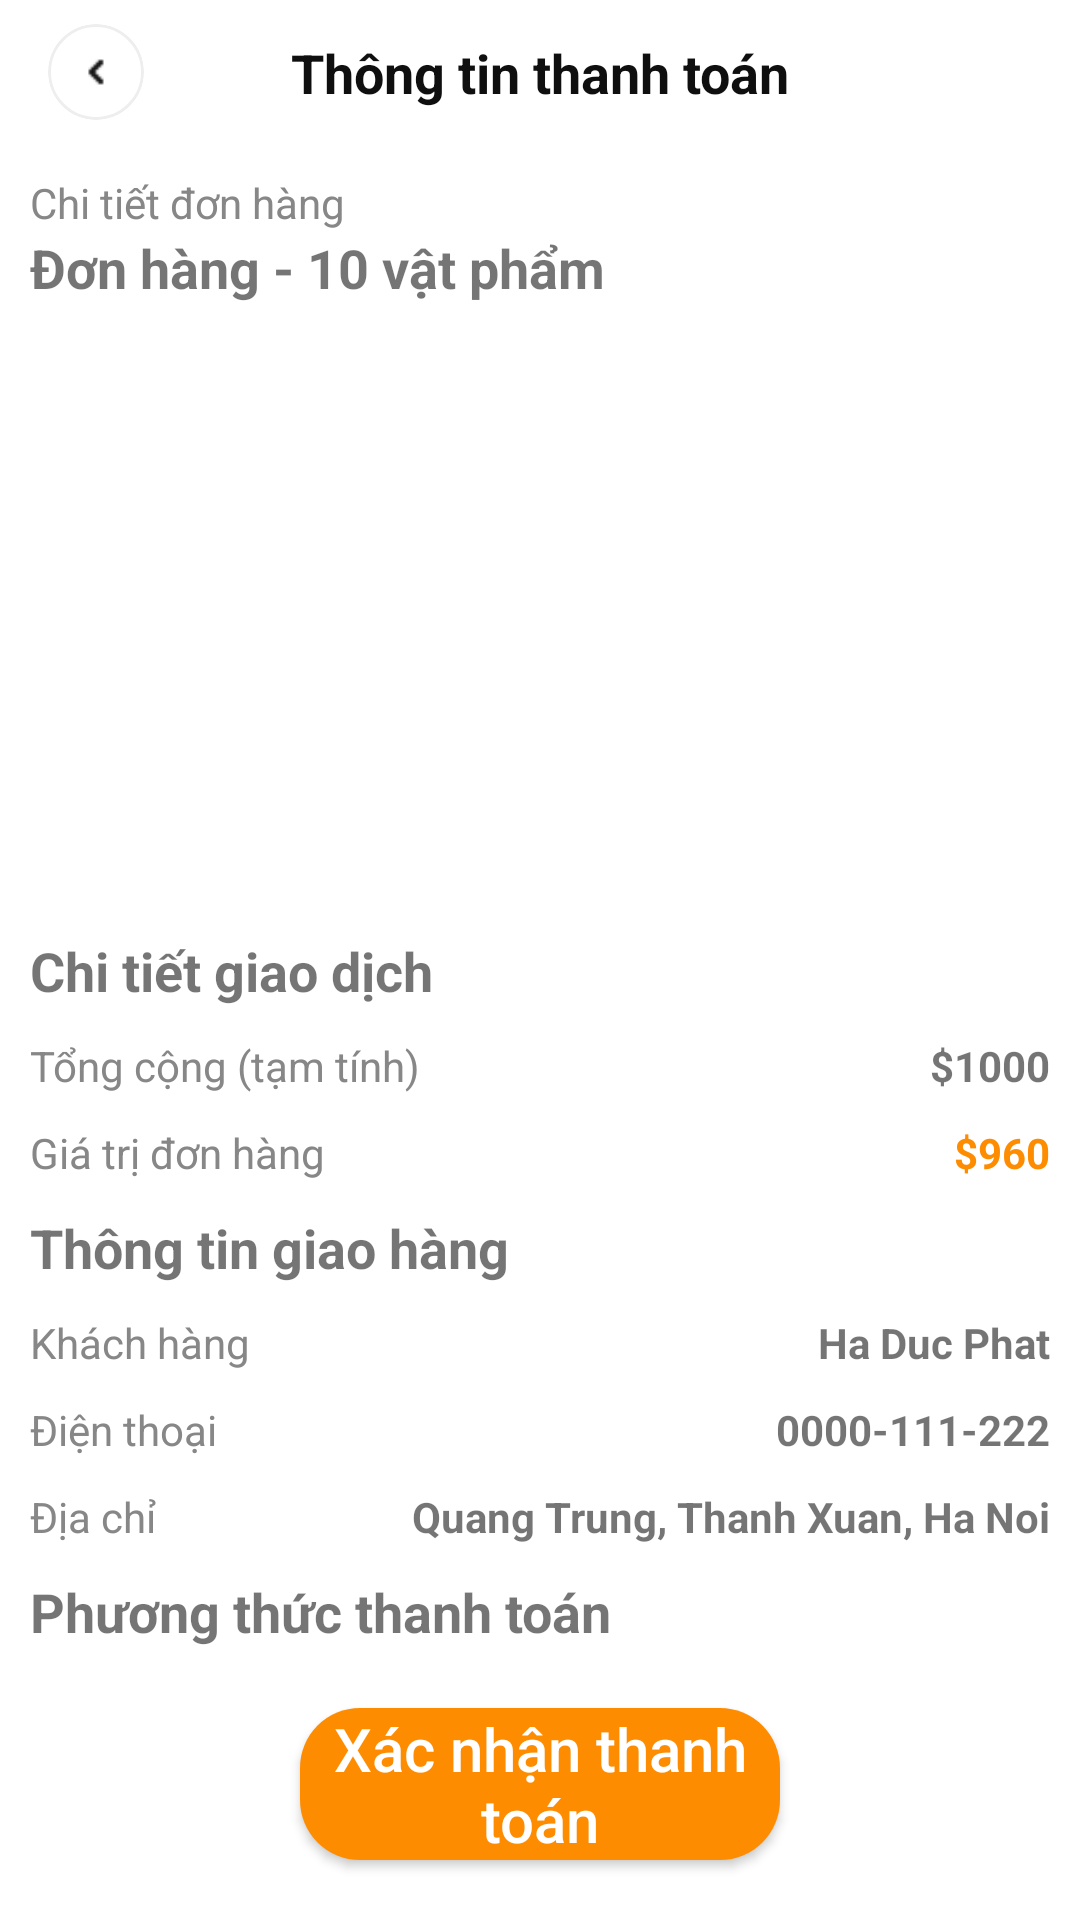

Locate icon controls on the screen. Image size 1080*1920, boxes as (x1, y1, x2, y2).
back: (88, 59, 104, 85)
